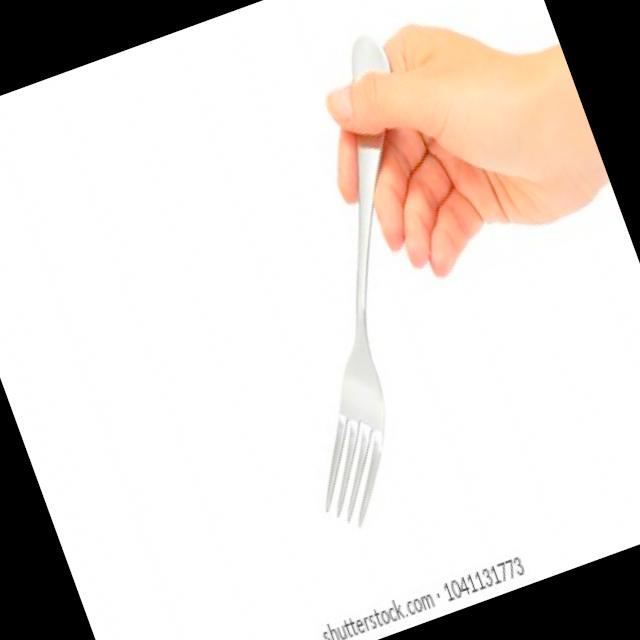fork: (176, 29, 537, 538)
